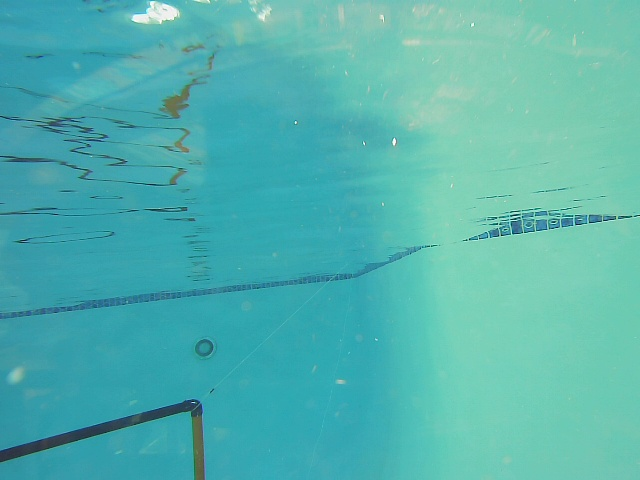Gate: (1, 393, 215, 480)
